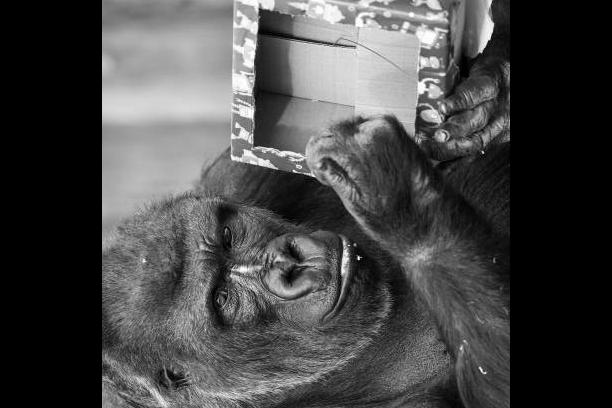gorille_Autres: (102, 158, 510, 408)
